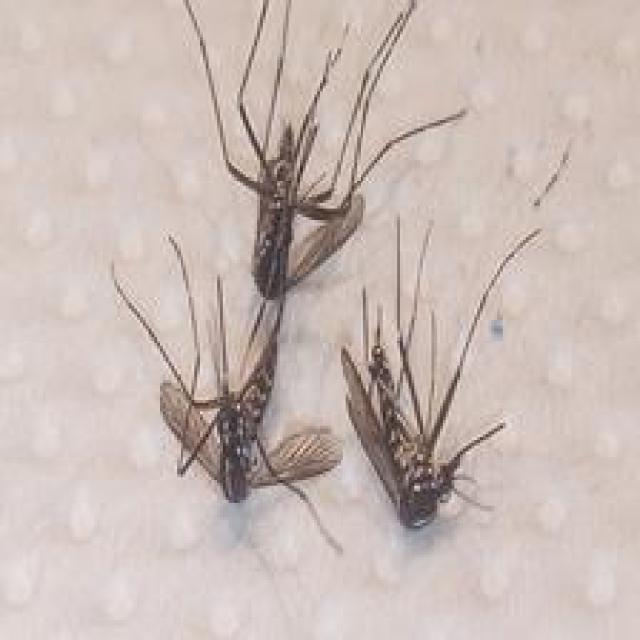Aedes albopictus: (339, 214, 544, 532)
